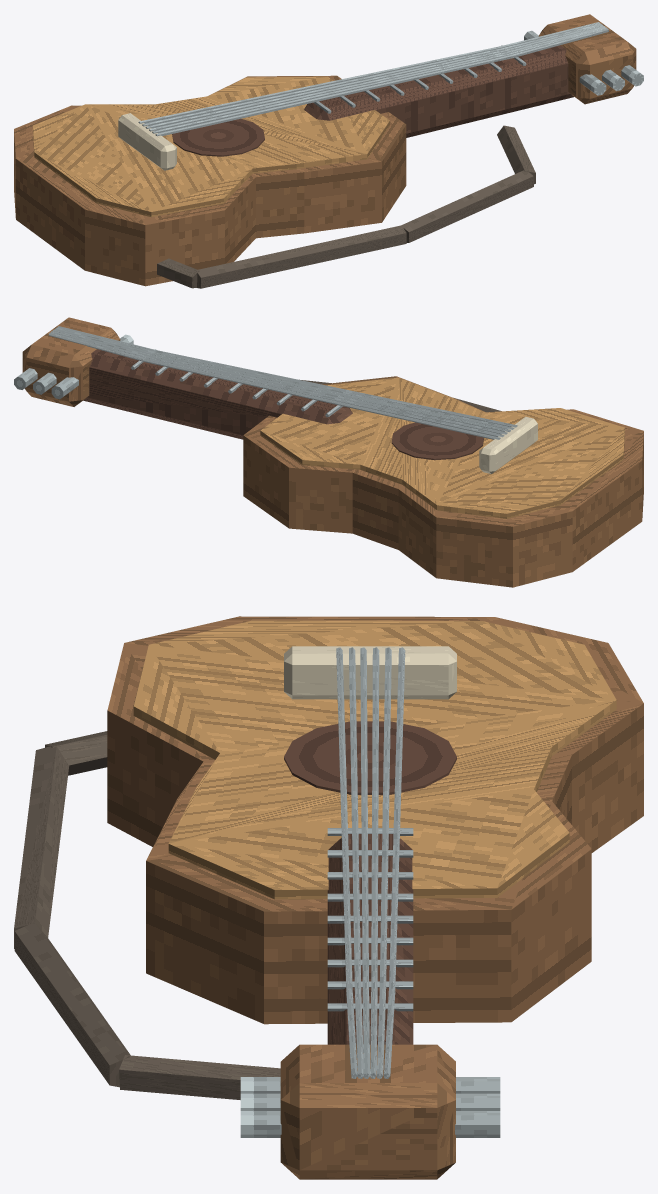
File: acoustic_guitar.glb
The picture shows the model from 3 angles, top to bottom: view 1: azimuth 30°, elevation 25°; view 2: azimuth 150°, elevation 25°; view 3: azimuth 270°, elevation 25°; orthographic projection. The views are drawn at different scales.
Visible parts, largest first — view 1: block_contoured instrument body, block_soundboard, block_neck and headstock, block_instrument string 0 (×6), block_carrying strap 1, block_tuning head, block_carrying strap 2, block_round sound hole, block_string bridge, block_carrying strap 3, block_carrying strap 0, block_instrument string 1; view 2: block_contoured instrument body, block_soundboard, block_neck and headstock, block_instrument string 0 (×6), block_tuning head, block_round sound hole, block_string bridge, block_instrument string 1; view 3: block_soundboard, block_contoured instrument body, block_tuning head, block_instrument string 0 (×6), block_neck and headstock, block_round sound hole, block_string bridge, block_carrying strap 1, block_carrying strap 2, block_carrying strap 3, block_tuning key (×3), block_carrying strap 0.
Boxes of the visible parts, bbox=[...] form: block_contoured instrument body: bbox=[14, 75, 406, 286]; block_soundboard: bbox=[33, 76, 389, 217]; block_neck and headstock: bbox=[304, 45, 573, 137]; block_instrument string 0 (×6): bbox=[138, 46, 512, 136]; block_carrying strap 1: bbox=[196, 225, 406, 288]; block_tuning head: bbox=[538, 14, 636, 104]; block_carrying strap 2: bbox=[401, 169, 533, 242]; block_round sound hole: bbox=[172, 118, 264, 156]; block_string bridge: bbox=[118, 113, 176, 170]; block_carrying strap 3: bbox=[497, 125, 535, 184]; block_carrying strap 0: bbox=[157, 258, 199, 288]; block_instrument string 1: bbox=[512, 28, 608, 57]; block_contoured instrument body: bbox=[243, 376, 643, 587]; block_soundboard: bbox=[260, 377, 624, 518]; block_neck and headstock: bbox=[83, 349, 352, 439]; block_instrument string 0 (×6): bbox=[144, 350, 517, 439]; block_tuning head: bbox=[22, 317, 120, 406]; block_round sound hole: bbox=[391, 422, 483, 460]; block_string bridge: bbox=[479, 416, 537, 473]; block_instrument string 1: bbox=[48, 332, 145, 361]; block_soundboard: bbox=[133, 620, 616, 899]; block_contoured instrument body: bbox=[107, 616, 643, 1024]; block_tuning head: bbox=[280, 1044, 455, 1179]; block_instrument string 0 (×6): bbox=[336, 647, 405, 990]; block_neck and headstock: bbox=[327, 834, 413, 1044]; block_round sound hole: bbox=[284, 721, 456, 794]; block_string bridge: bbox=[284, 646, 456, 699]; block_carrying strap 1: bbox=[14, 744, 69, 948]; block_carrying strap 2: bbox=[14, 922, 130, 1087]; block_carrying strap 3: bbox=[119, 1055, 280, 1099]; block_tuning key (×3): bbox=[240, 1093, 500, 1137]; block_carrying strap 0: bbox=[45, 731, 107, 775].
Size of the model in its own units: 0.97 by 0.1511 by 0.506.
1 material, 1 textured.
